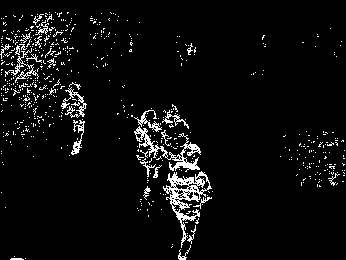person: (165, 140, 213, 260), (131, 108, 164, 193), (158, 98, 190, 181), (56, 79, 87, 159)
